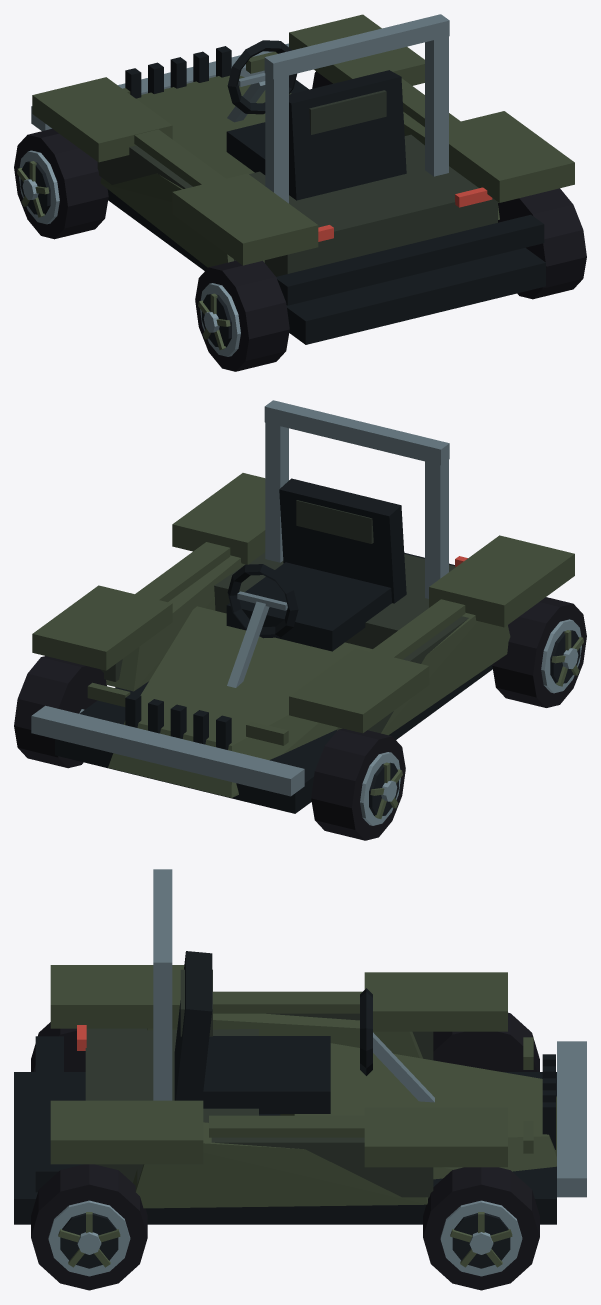
File: kart.glb
The picture shows the model from 3 angles, top to bottom: view 1: azimuth 30°, elevation 25°; view 2: azimuth 150°, elevation 25°; view 3: azimuth 270°, elevation 25°; orthographic projection. The views are drawn at different scales.
Visible parts, largest first — view 1: chassis, wheel-rear-left, wheel-front-left, wheel-rear-right; view 2: chassis, wheel-front-left, wheel-rear-left, wheel-front-right; view 3: chassis, wheel-rear-right, wheel-front-right, wheel-front-left, wheel-rear-left.
Part boxes in pixels (x1=…): chassis: x1=31, y1=14, x2=574, y2=344; wheel-rear-left: x1=195, y1=260, x2=289, y2=371; wheel-front-left: x1=14, y1=128, x2=108, y2=239; wheel-rear-right: x1=498, y1=188, x2=586, y2=299; chassis: x1=31, y1=400, x2=574, y2=813; wheel-front-left: x1=311, y1=728, x2=405, y2=840; wheel-rear-left: x1=492, y1=597, x2=586, y2=707; wheel-front-right: x1=14, y1=656, x2=106, y2=768; chassis: x1=14, y1=869, x2=586, y2=1224; wheel-rear-right: x1=31, y1=1164, x2=147, y2=1290; wheel-front-right: x1=423, y1=1167, x2=539, y2=1290; wheel-front-left: x1=433, y1=1012, x2=539, y2=1071; wheel-rear-left: x1=31, y1=1022, x2=85, y2=1071.
Bounding box in the file's own units: 2.41 × 1.67 × 3.04.
